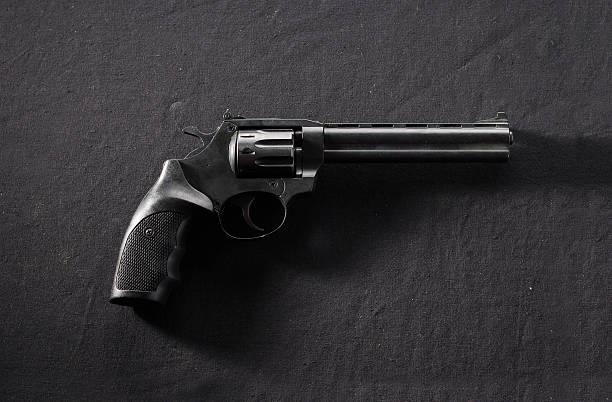weapon: (103, 104, 518, 309)
